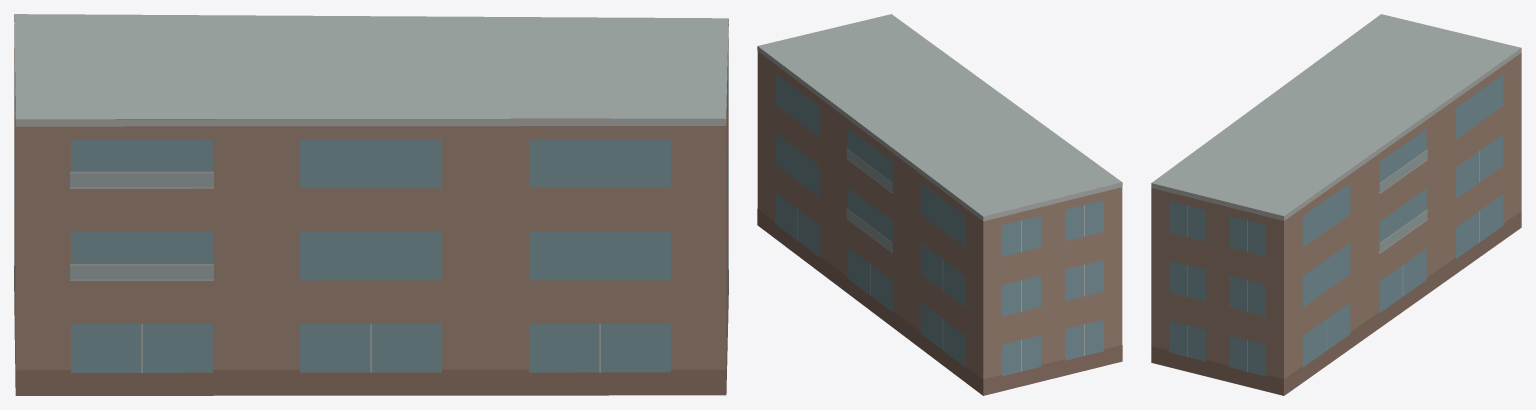
The model's file is survey-upis-32954336.glb.
3 views of the same model, side by side, from view 1: azimuth 30°, elevation 25°; view 2: azimuth 150°, elevation 25°; view 3: azimuth 270°, elevation 25° (orthographic). The views are drawn at different scales.
Visible parts, largest first — view 1: survey-upis-32954336.tmp; view 2: survey-upis-32954336.tmp; view 3: survey-upis-32954336.tmp.
Boxes of the visible parts, bbox=[...] form: survey-upis-32954336.tmp: bbox=[14, 14, 728, 395]; survey-upis-32954336.tmp: bbox=[757, 14, 1122, 395]; survey-upis-32954336.tmp: bbox=[1151, 14, 1521, 395].
Bounding box in the file's own units: 22.1 × 9.15 × 17.1.
